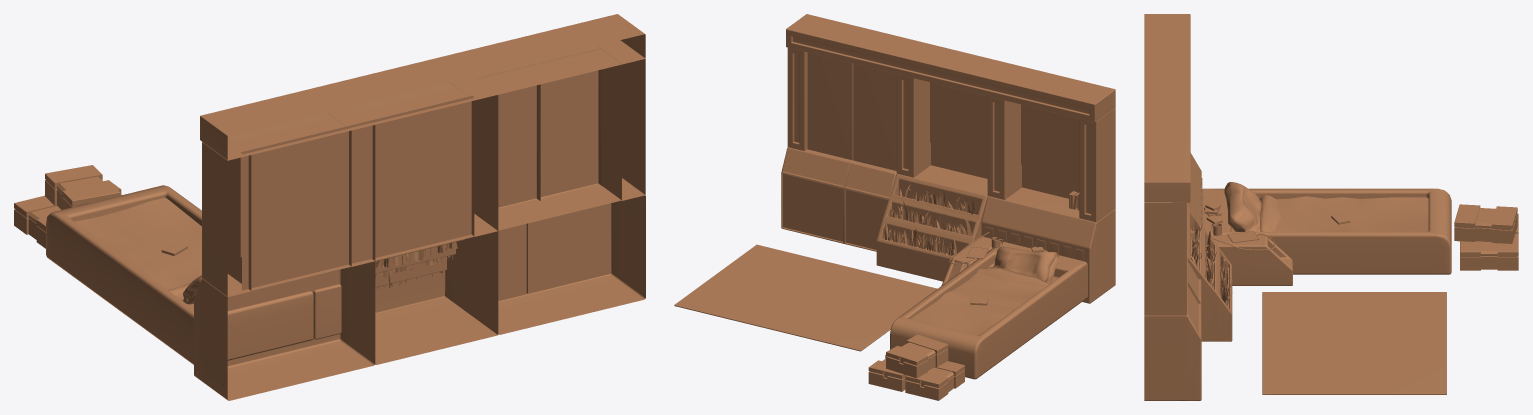
Rendered from SM_BadRoom.fbx.
3 renders of one model, left to right at view 1: azimuth 30°, elevation 25°; view 2: azimuth 150°, elevation 25°; view 3: azimuth 270°, elevation 25°, orthographic. The views are drawn at different scales.
Visible parts, largest first — view 1: SM_BadRoom; view 2: SM_BadRoom; view 3: SM_BadRoom.
Part boxes in pixels (x1,y1,x2,y2): SM_BadRoom: (14,14,645,400); SM_BadRoom: (674,14,1115,400); SM_BadRoom: (1144,14,1518,400).
Size of the model in its own units: 452 by 274 by 424.
